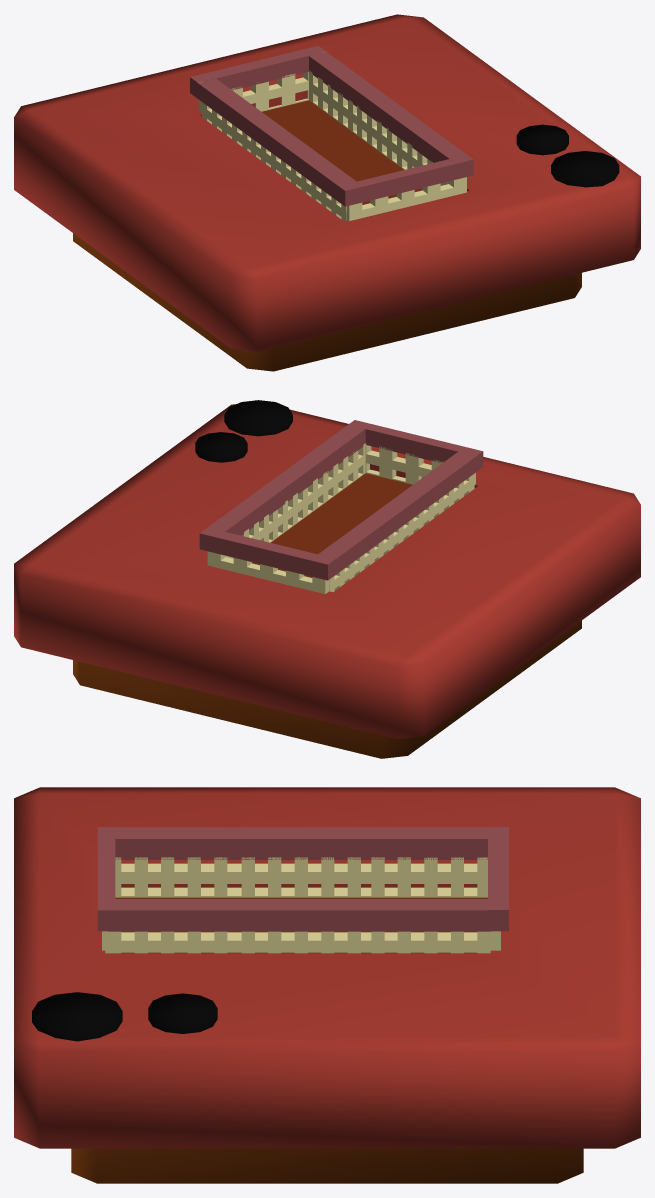
The model's file is Fryer.glb.
The picture shows the model from 3 angles, top to bottom: view 1: azimuth 30°, elevation 25°; view 2: azimuth 150°, elevation 25°; view 3: azimuth 270°, elevation 25°; orthographic projection. The views are drawn at different scales.
Visible parts, largest first — view 1: Cube.140; view 2: Cube.140; view 3: Cube.140.
Part boxes in pixels (box(x1,y1,x2,y2)): Cube.140: box(14, 14, 640, 371); Cube.140: box(14, 400, 640, 758); Cube.140: box(14, 787, 640, 1183).
Bounding box in the file's own units: 1.85 × 0.6768 × 1.85.
